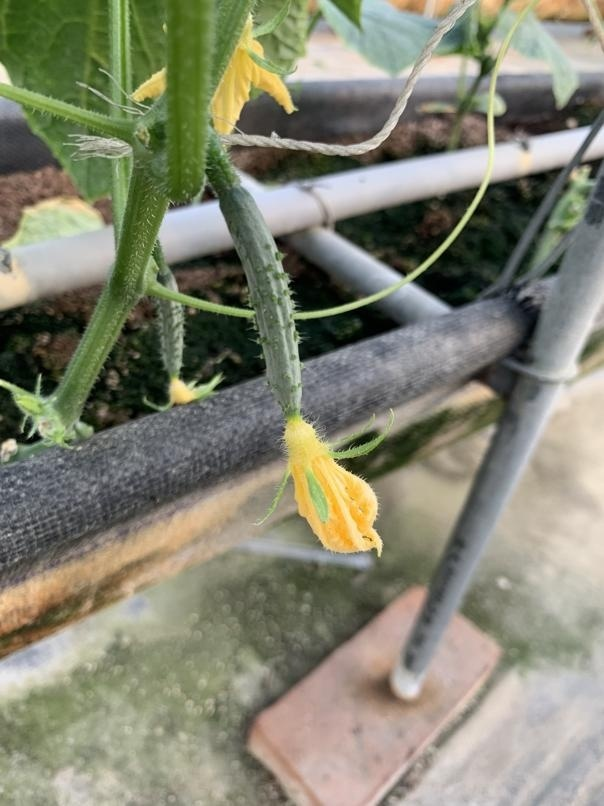bear: (207, 178, 386, 564)
